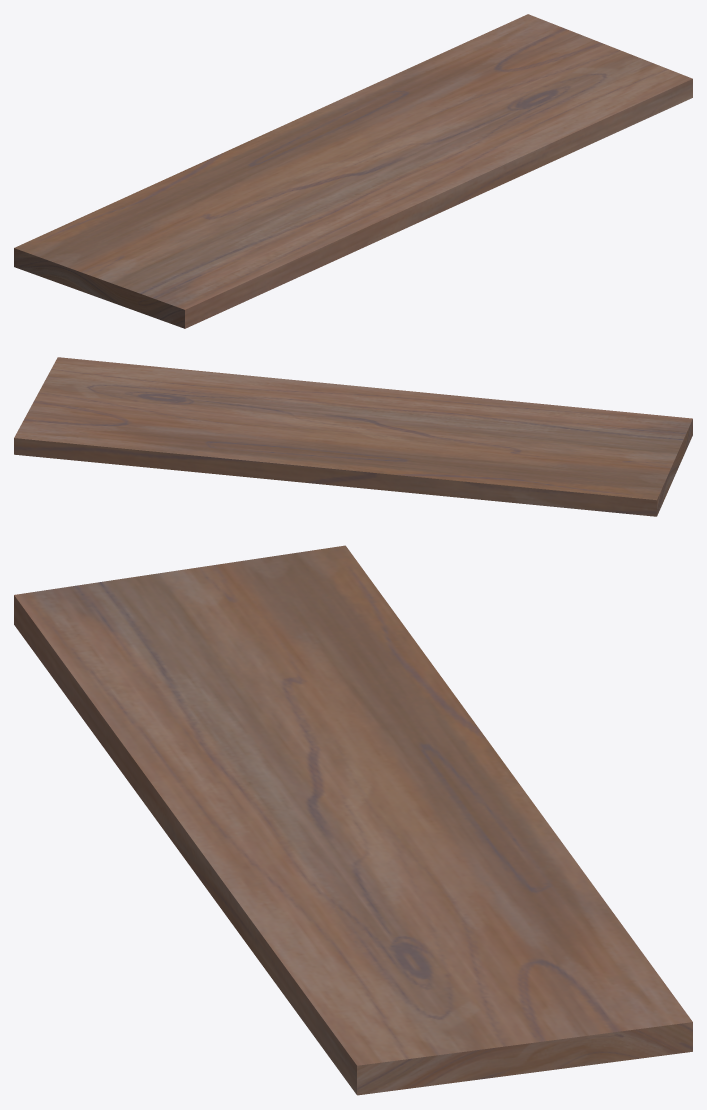
The model's file is plank_032.fbx.
3 views of the same model, one above another, from view 1: azimuth 30°, elevation 25°; view 2: azimuth 150°, elevation 25°; view 3: azimuth 270°, elevation 25° (orthographic). The views are drawn at different scales.
Visible parts, largest first — view 1: plank.032; view 2: plank.032; view 3: plank.032.
Boxes of the visible parts, x1,y1,x2,y2 form: plank.032: (14, 14, 692, 328); plank.032: (14, 357, 692, 516); plank.032: (14, 545, 692, 1095).
Size of the model in its own units: 37.41 by 0.9957 by 20.63.
